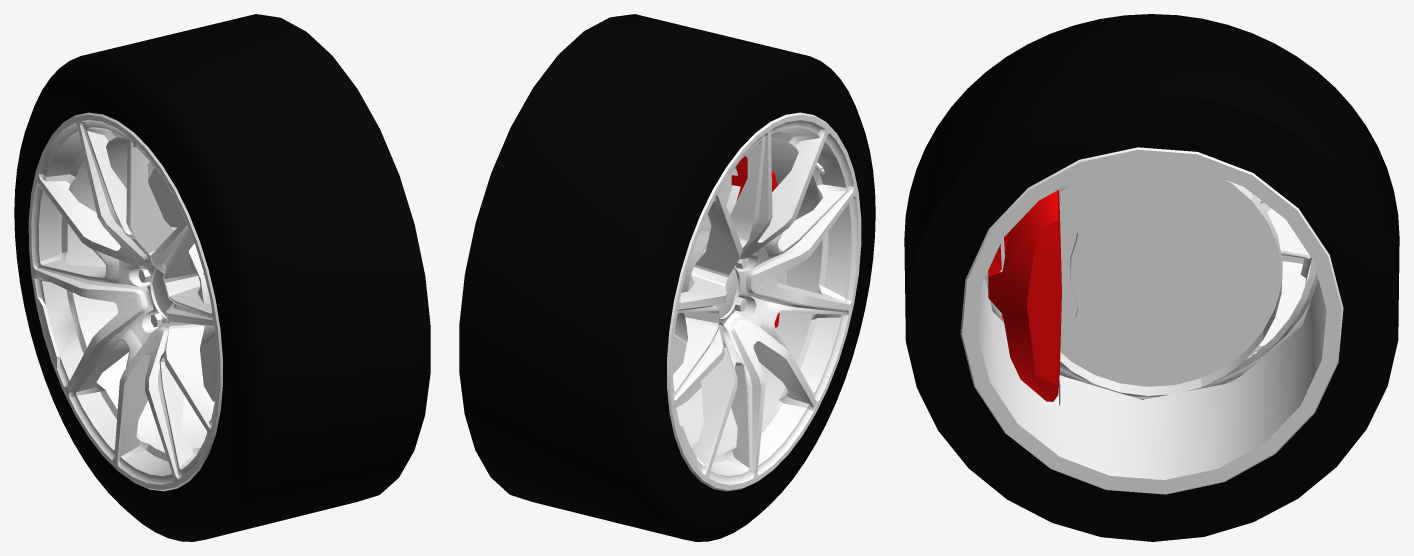
The model's file is mercades_benz_amg_gt_wheelhigh.obj.
The picture shows the model from 3 angles, left to right: view 1: azimuth 30°, elevation 25°; view 2: azimuth 150°, elevation 25°; view 3: azimuth 270°, elevation 25°; orthographic projection.
Visible parts, largest first — view 1: mercades_benz_amg_gt_wheelhigh_body6_model0.016; view 2: mercades_benz_amg_gt_wheelhigh_body6_model0.016; view 3: mercades_benz_amg_gt_wheelhigh_body6_model0.016.
Boxes of the visible parts, x1,y1,x2,y2 form: mercades_benz_amg_gt_wheelhigh_body6_model0.016: [14, 14, 430, 541]; mercades_benz_amg_gt_wheelhigh_body6_model0.016: [459, 14, 875, 541]; mercades_benz_amg_gt_wheelhigh_body6_model0.016: [904, 14, 1399, 541].
Size of the model in its own units: 0.3097 by 0.7007 by 0.7007.
